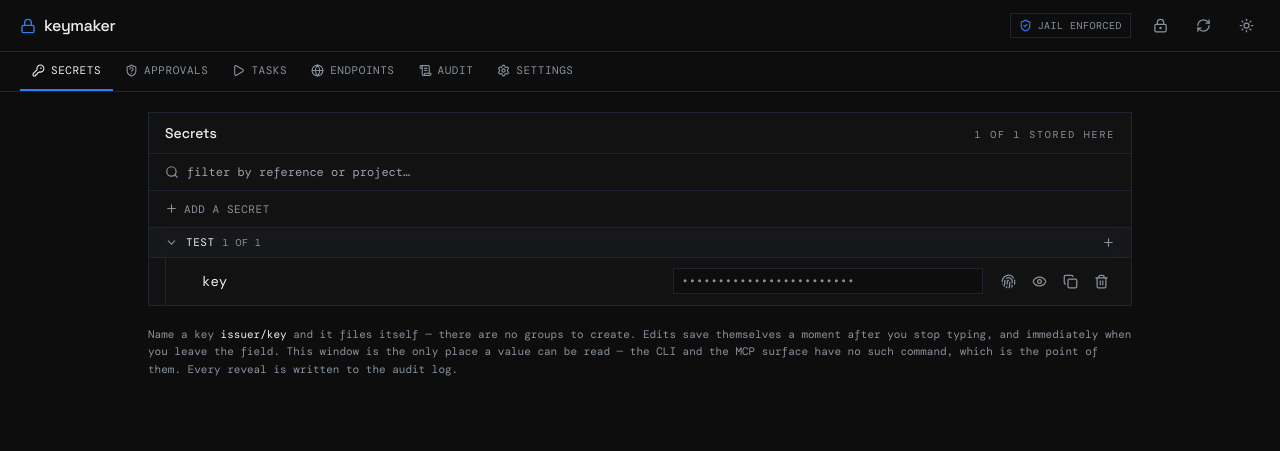
Test: does not retry a cancelled read and permits a later deliberate retry
Expected: the text "key" is shown, [202,271,227,291]
What coordinates should you click on to do the following:
click the button named "Reveal"
I would click on:
 (1040, 281)
Its box is [1026,268,1053,294].
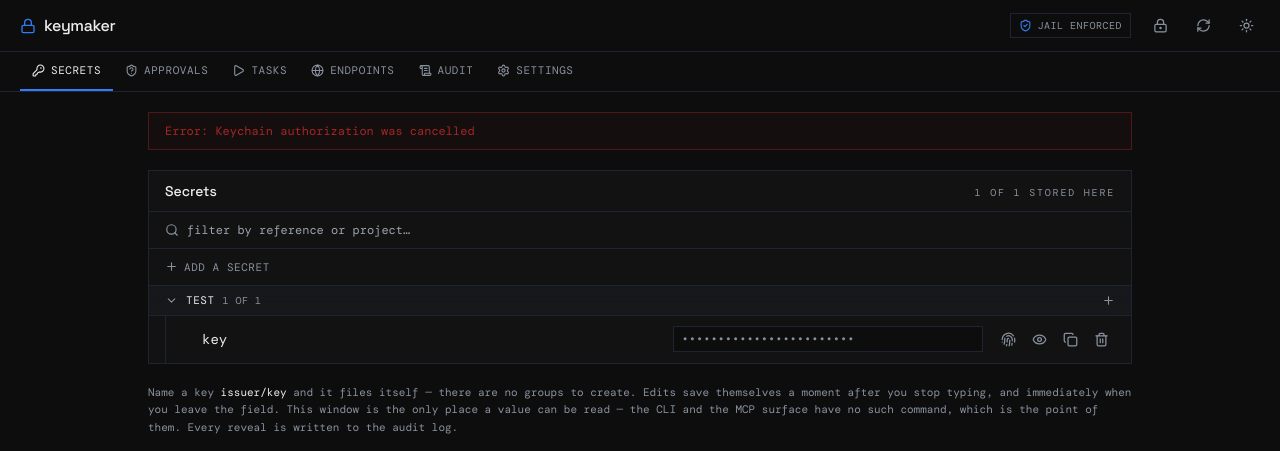
Now the text "Error: Keychain authorization was cancelled" is shown, box [148,112,1132,150]
What coordinates should you click on to do the following:
click the button named "Reveal"
I would click on:
 (1040, 339)
Its box is [1026,326,1053,352].
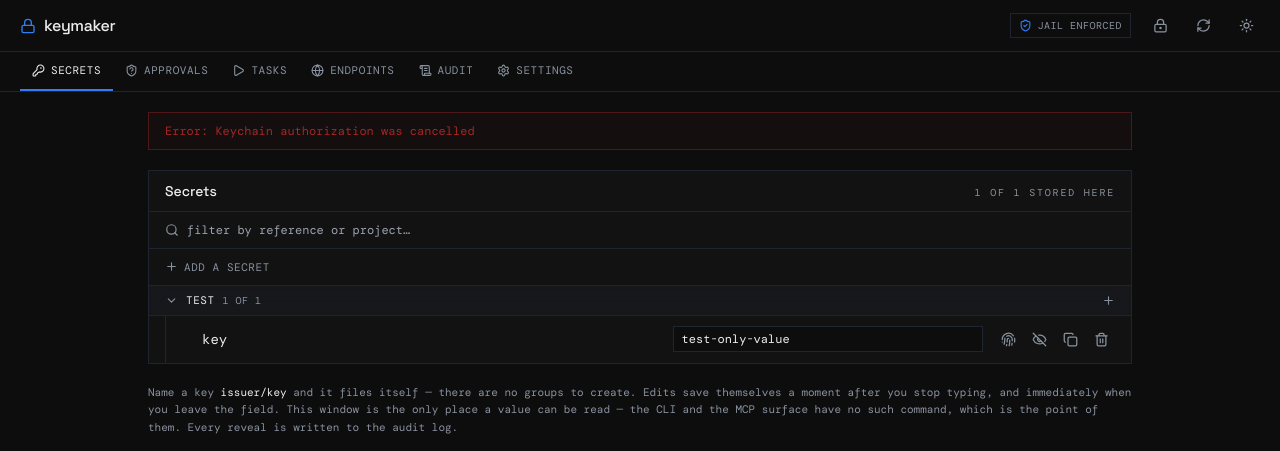
Now the field named "Value of test/key" is shown, box [673,326,983,352]
